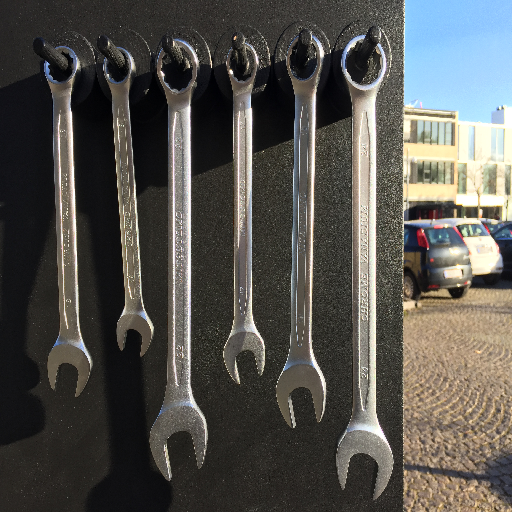bottom: (147, 400, 209, 483), (334, 423, 393, 501), (274, 360, 327, 429), (44, 338, 93, 399), (221, 327, 268, 386), (114, 309, 157, 359)
top: (339, 35, 389, 94), (154, 39, 203, 98), (284, 32, 326, 89), (223, 41, 262, 91), (41, 44, 82, 90), (99, 46, 140, 90)
